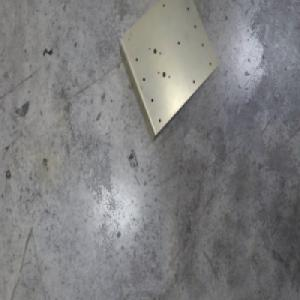MetalSheet: (117, 0, 219, 144)
